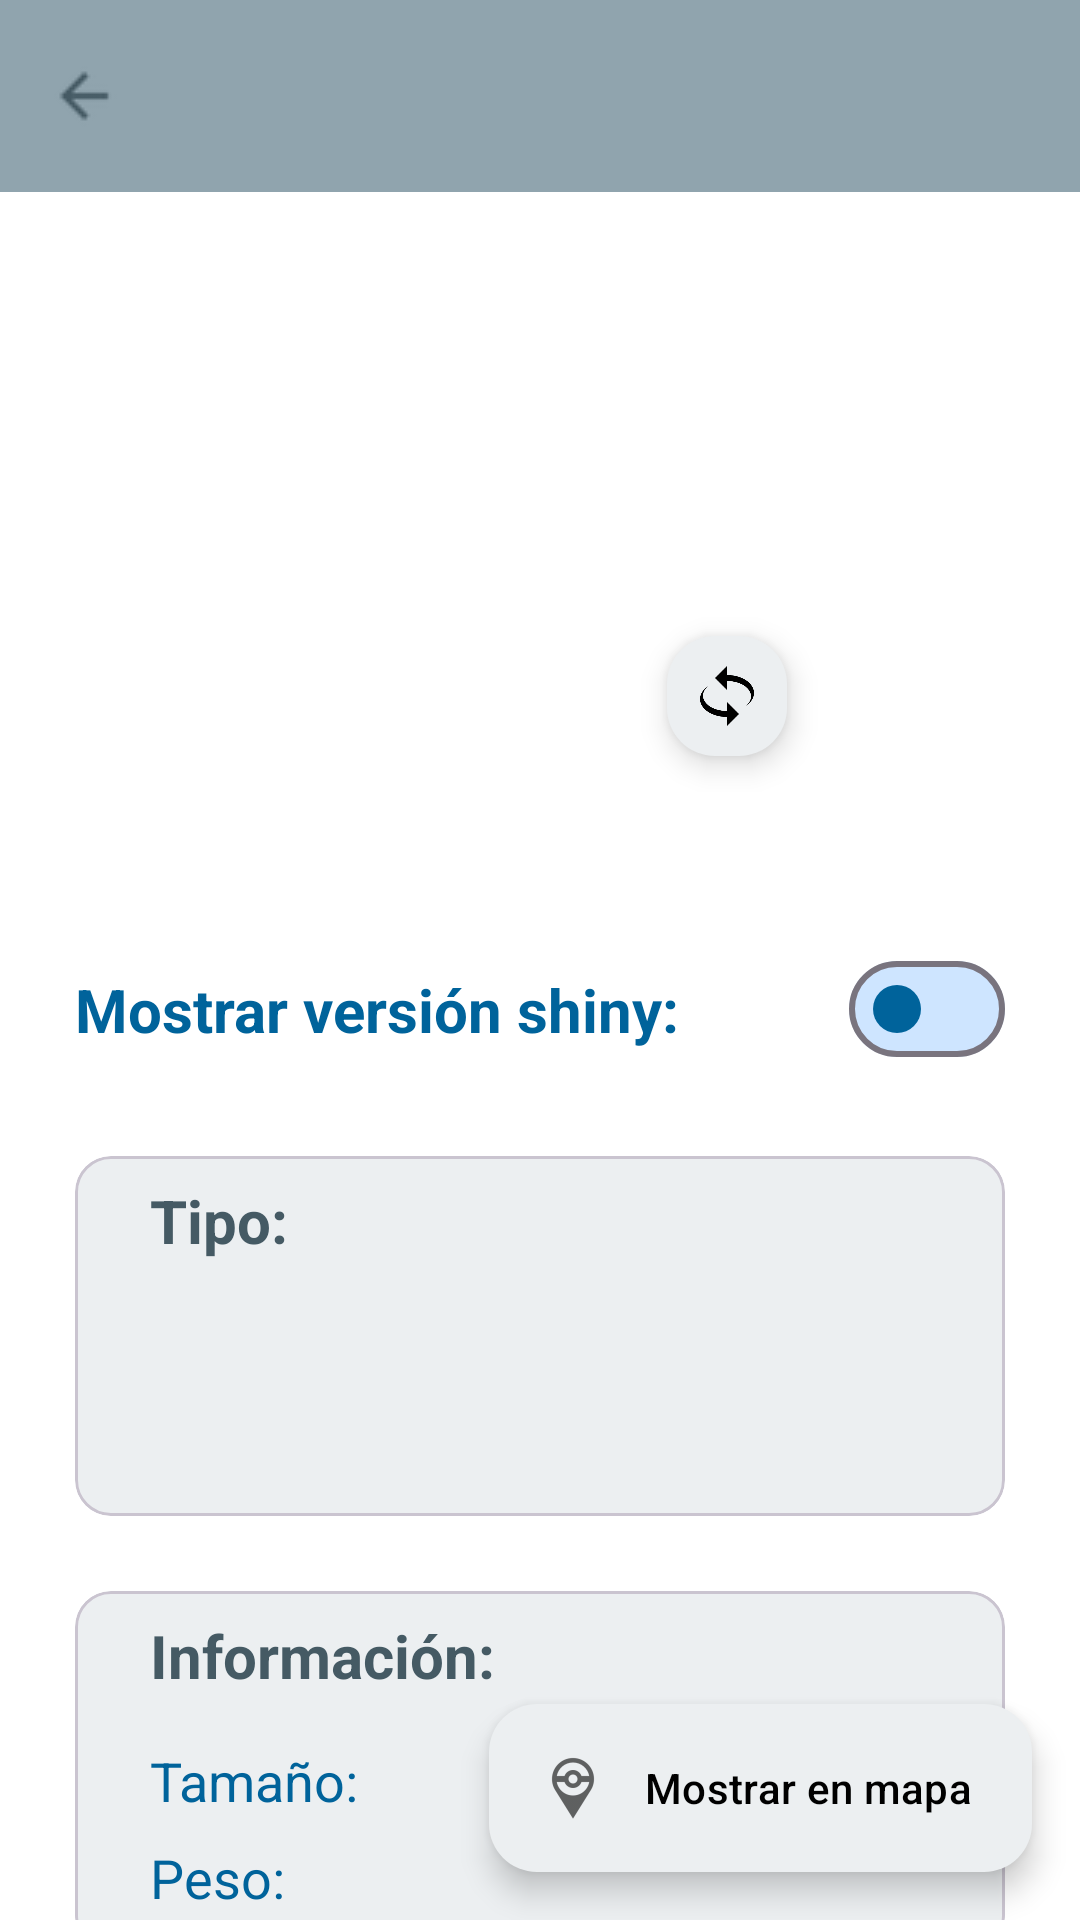

Point at icon controls on the screen. Image size 1080*1920, points as point (x, y).
rotate sprite: point (729, 700)
